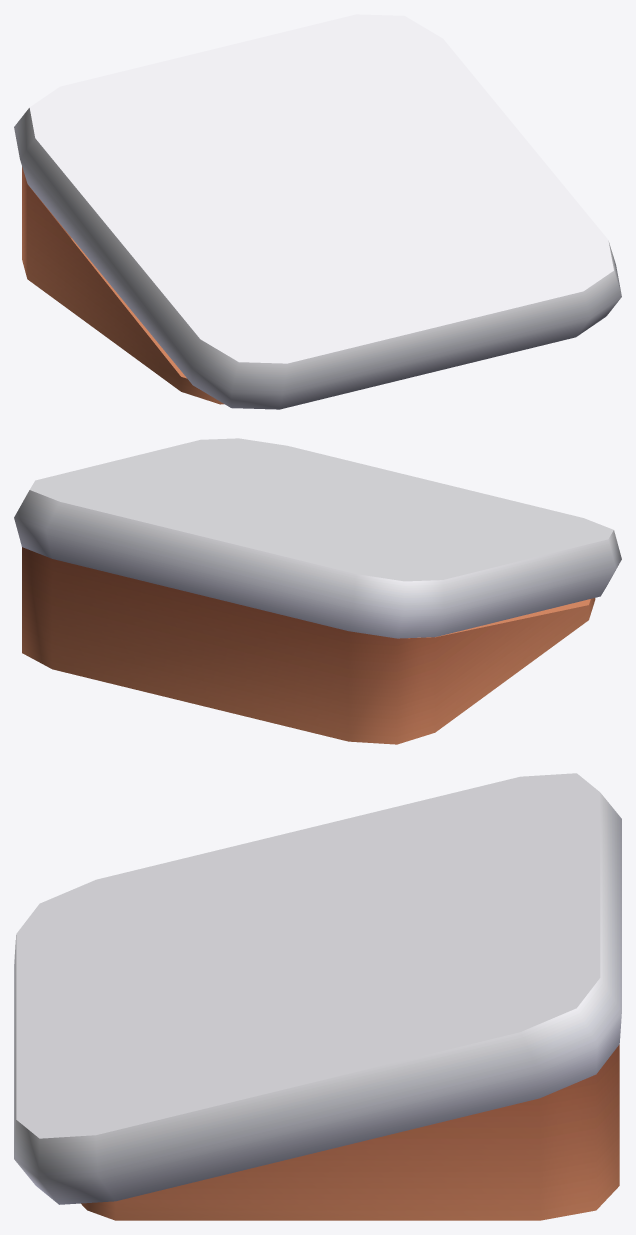
The model's file is block-snow-large-slope.glb.
3 views of the same model, one above another, from view 1: azimuth 30°, elevation 25°; view 2: azimuth 150°, elevation 25°; view 3: azimuth 270°, elevation 25° (orthographic). The views are drawn at different scales.
Parts seen in each view (by area): view 1: block-snow-large-slope; view 2: block-snow-large-slope; view 3: block-snow-large-slope.
Boxes of the visible parts, x1=… form: block-snow-large-slope: x1=14, y1=14, x2=621, y2=409; block-snow-large-slope: x1=14, y1=438, x2=621, y2=744; block-snow-large-slope: x1=14, y1=773, x2=621, y2=1220.
Size of the model in its own units: 2.08 by 0.759 by 2.01.
1 material, 1 textured.
